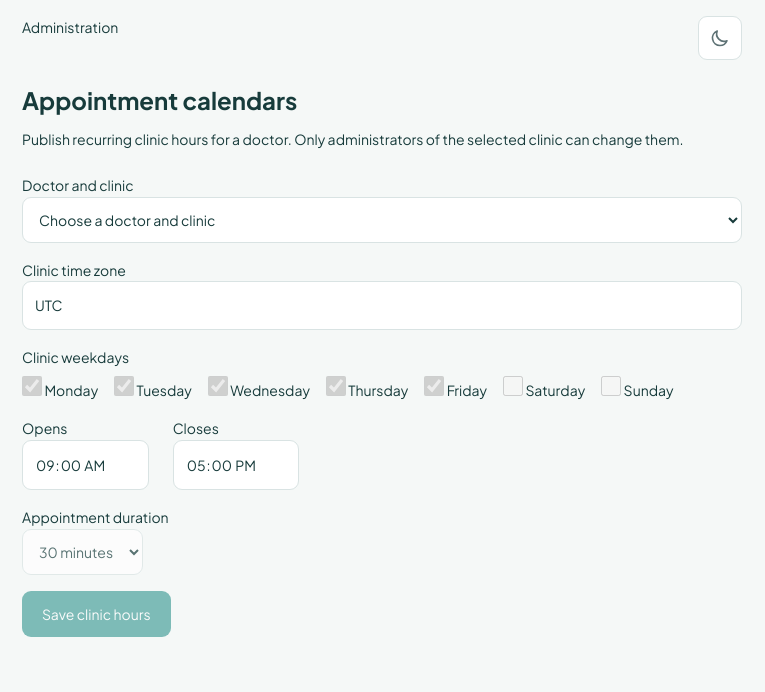
Test: unpublished hours are explicit and the administrator can publish a real calendar
Select "Dr. Current Clinician — Current clinic" in the dropdown labelled "Doctor and clinic". click: [382, 220]
box: [22,197,742,243]
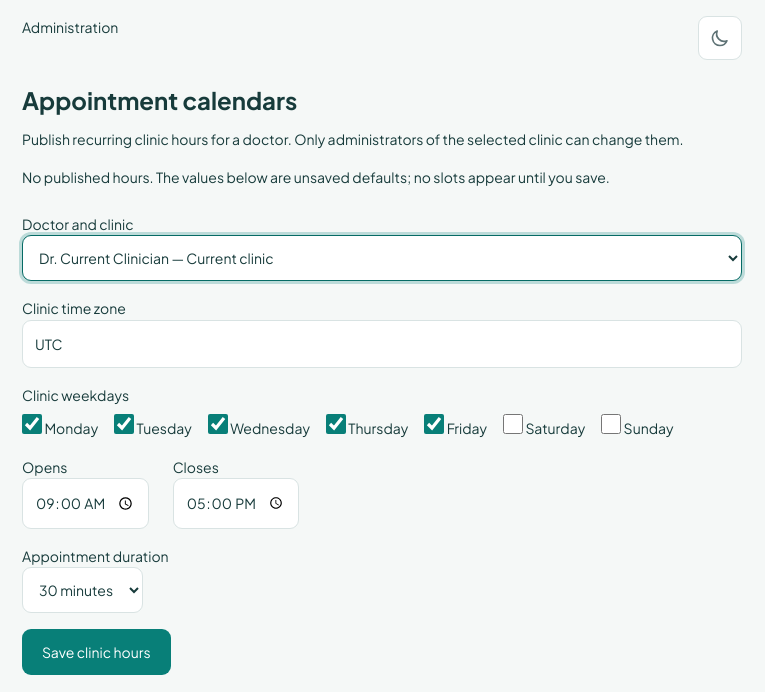
Now the message shows "unsaved defaults", box [22,168,610,186]
Replace the text in the field labelled "Clinic time zone" with "Asia/Kolkata". click: [382, 344]
box: [22,320,742,368]
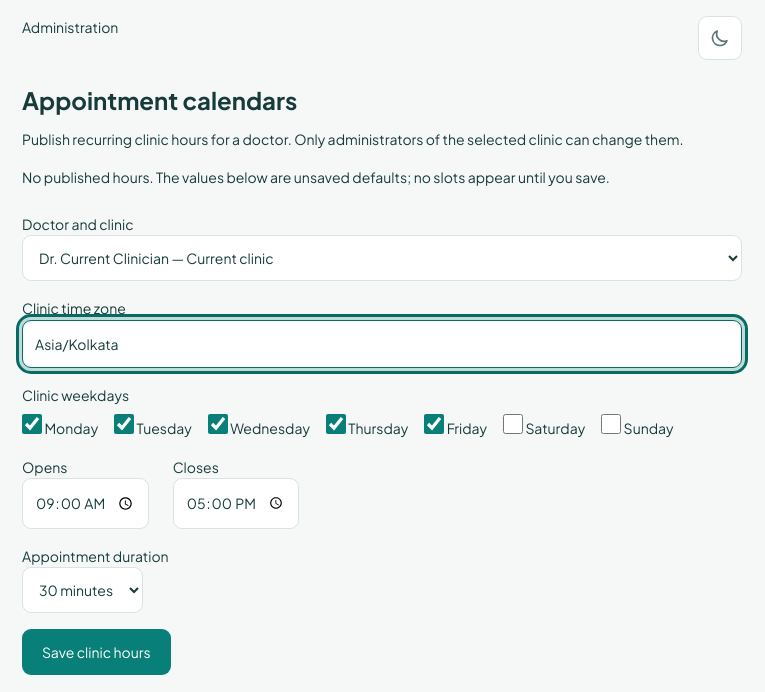
Click the button "Save clinic hours". click: [96, 652]
box: [22,629,171,675]
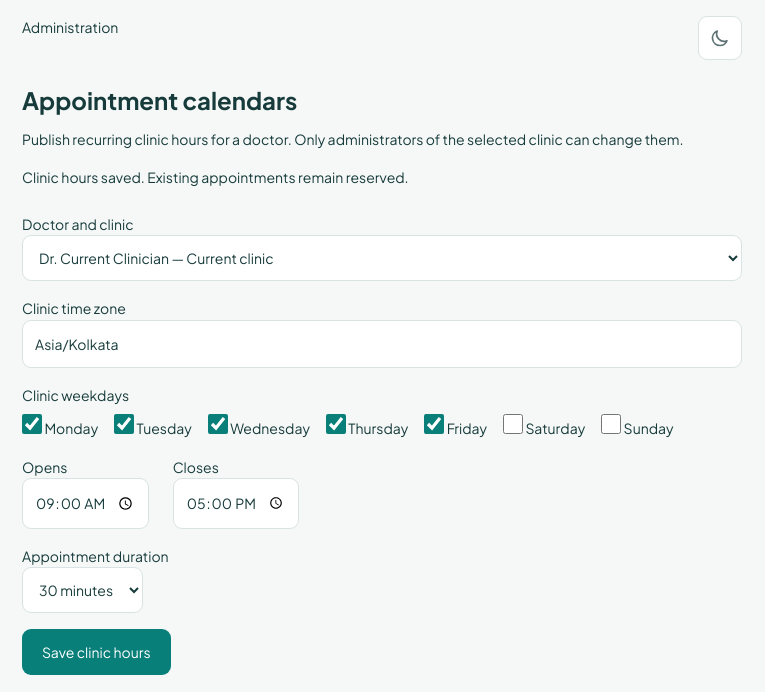
Now the message shows "Clinic hours saved", box [22,168,409,186]
